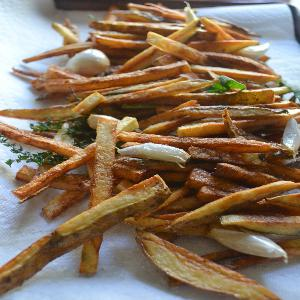fries_350cal: (10, 7, 294, 290)
